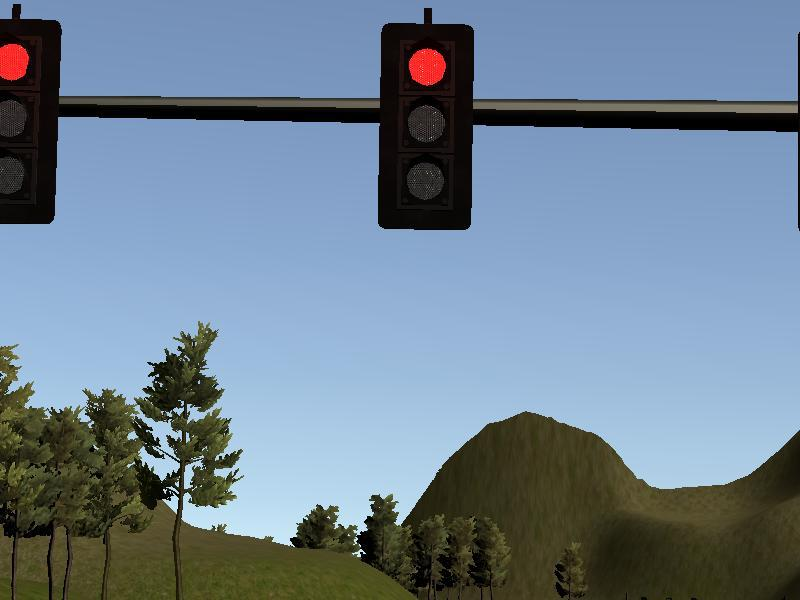Red: (384, 28, 469, 230), (1, 19, 54, 220)
